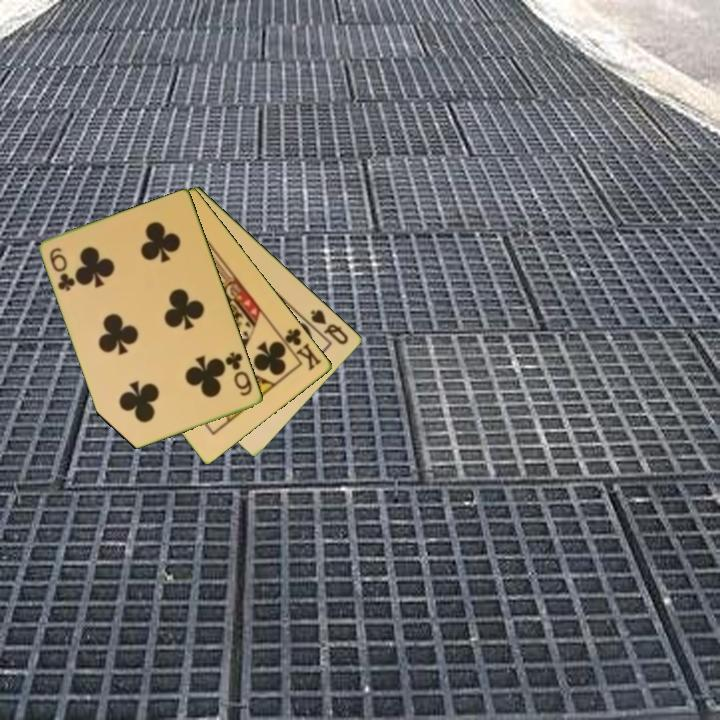6c: (222, 348, 255, 399), (46, 244, 78, 295)
Kc: (276, 325, 325, 374)
Qs: (307, 306, 352, 347)
